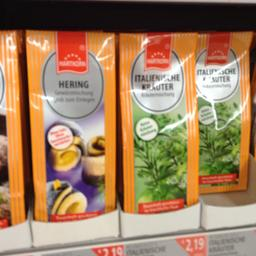spices: (24, 26, 114, 222), (118, 31, 198, 215)
